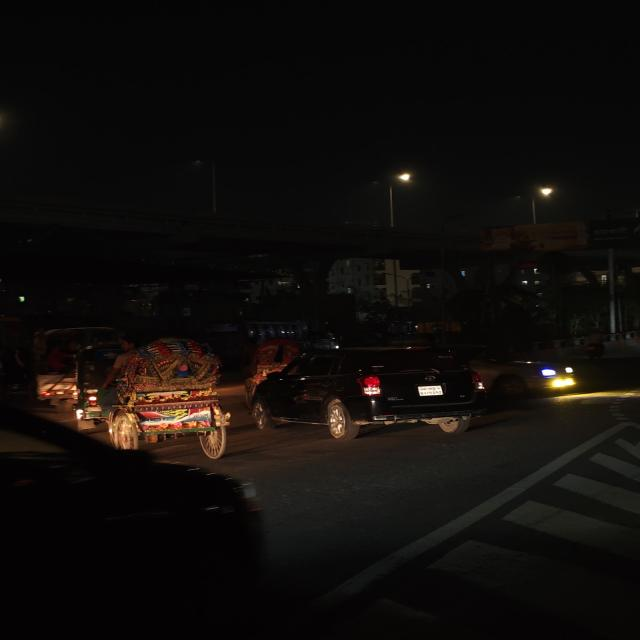car: (252, 347, 491, 445), (472, 356, 579, 396)
rickshaw: (108, 337, 233, 459), (243, 337, 300, 381)
